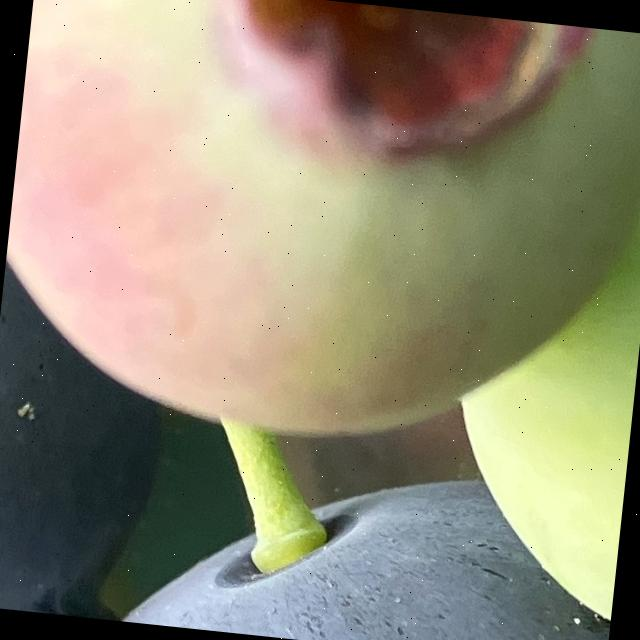Blueberries: (0, 0, 640, 470), (30, 428, 624, 640)
